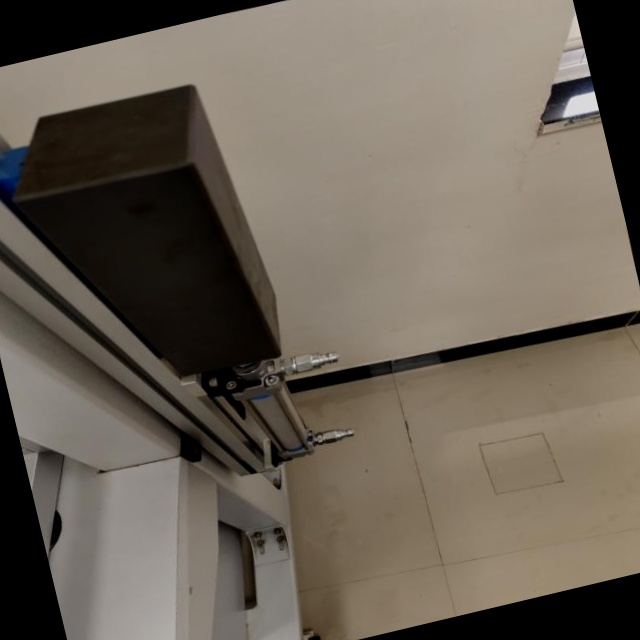load: (0, 53, 374, 523)
